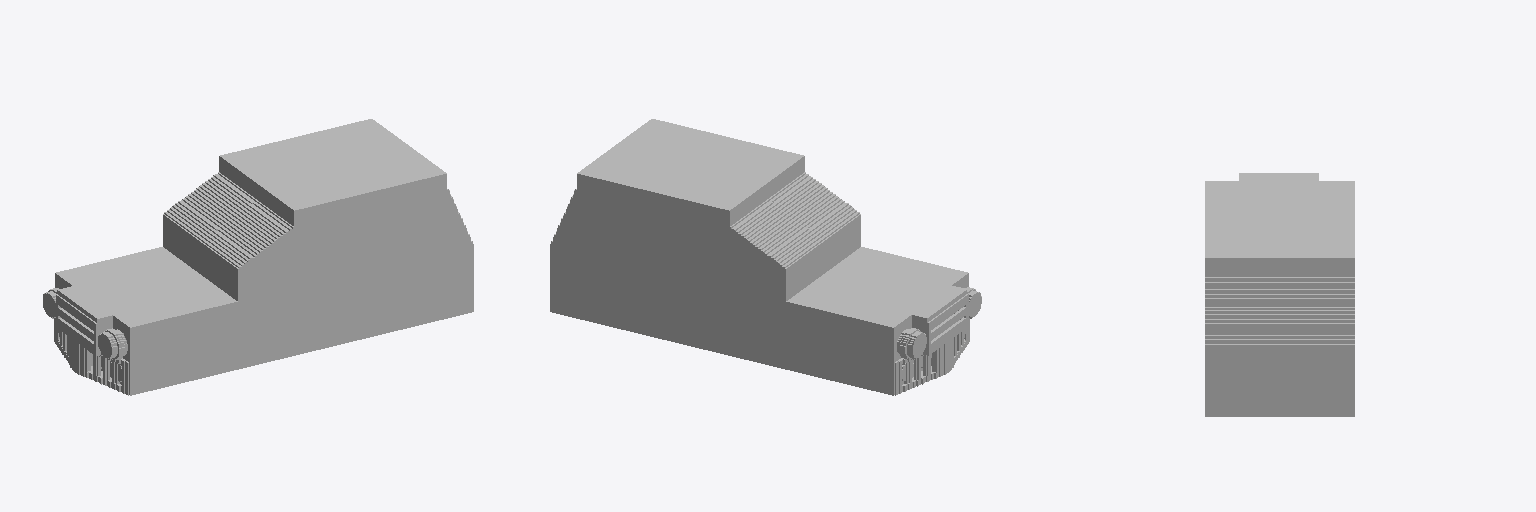
File: carbody.obj
3 renders of one model, left to right at view 1: azimuth 30°, elevation 25°; view 2: azimuth 150°, elevation 25°; view 3: azimuth 270°, elevation 25°, orthographic.
Parts seen in each view (by area): view 1: carbody; view 2: carbody; view 3: carbody.
Boxes of the visible parts, <box> form: carbody: <box>43,119,473,395</box>; carbody: <box>550,119,981,395</box>; carbody: <box>1205,173,1354,416</box>.
Bounding box in the file's own units: 25.5 × 9.8 × 9.2.